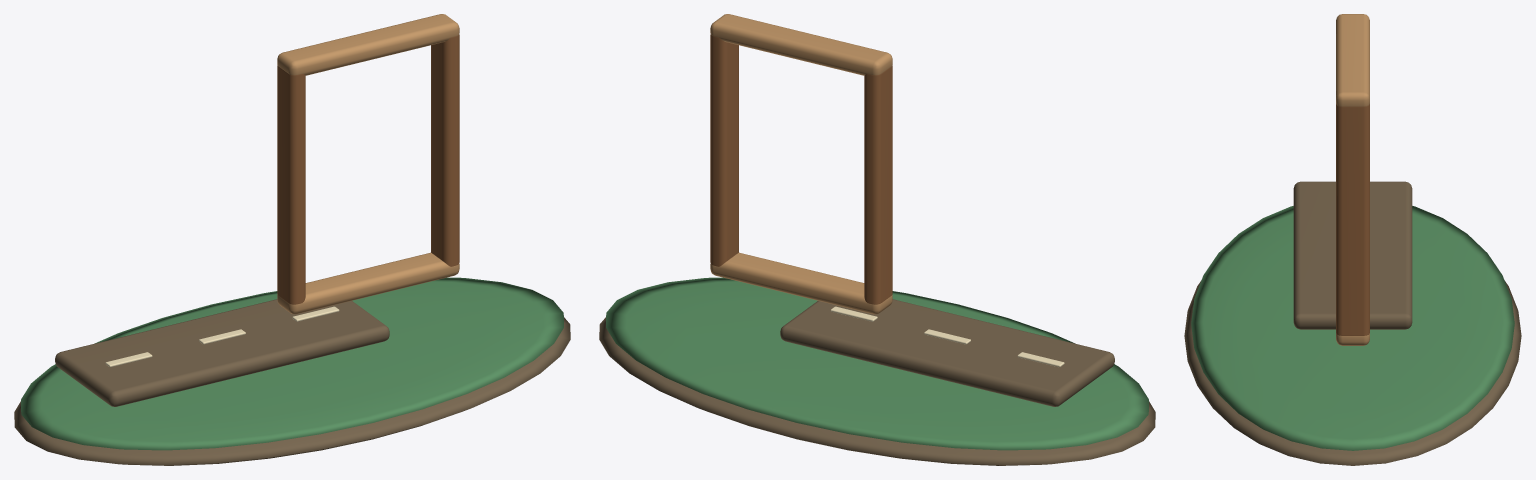
The model's file is enter-courtyard.glb.
3 views of the same model, side by side, from view 1: azimuth 30°, elevation 25°; view 2: azimuth 150°, elevation 25°; view 3: azimuth 270°, elevation 25° (orthographic).
Parts seen in each view (by area): view 1: enter-courtyard_surface_01, enter-courtyard_surface_00, enter-courtyard_surface_03, enter-courtyard_surface_04, enter-courtyard_surface_02; view 2: enter-courtyard_surface_01, enter-courtyard_surface_00, enter-courtyard_surface_03, enter-courtyard_surface_04, enter-courtyard_surface_02; view 3: enter-courtyard_surface_01, enter-courtyard_surface_00, enter-courtyard_surface_03, enter-courtyard_surface_04.
Boxes of the visible parts, box(x1,y1,x2,y2) form: enter-courtyard_surface_01: box(21, 277, 563, 450); enter-courtyard_surface_00: box(14, 299, 570, 465); enter-courtyard_surface_03: box(277, 34, 459, 304); enter-courtyard_surface_04: box(277, 14, 459, 314); enter-courtyard_surface_02: box(105, 306, 339, 367); enter-courtyard_surface_01: box(606, 277, 1148, 450); enter-courtyard_surface_00: box(599, 299, 1155, 465); enter-courtyard_surface_03: box(710, 34, 892, 304); enter-courtyard_surface_04: box(710, 14, 892, 314); enter-courtyard_surface_02: box(830, 306, 1064, 367); enter-courtyard_surface_01: box(1191, 206, 1514, 450); enter-courtyard_surface_00: box(1184, 181, 1521, 465); enter-courtyard_surface_03: box(1336, 104, 1369, 335); enter-courtyard_surface_04: box(1336, 14, 1369, 345).
Size of the model in its own units: 4.56 by 2.75 by 2.5.
